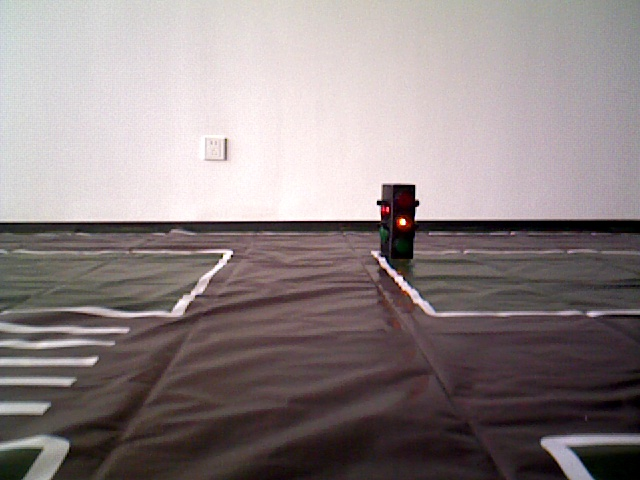yellow: (380, 183, 417, 255)
